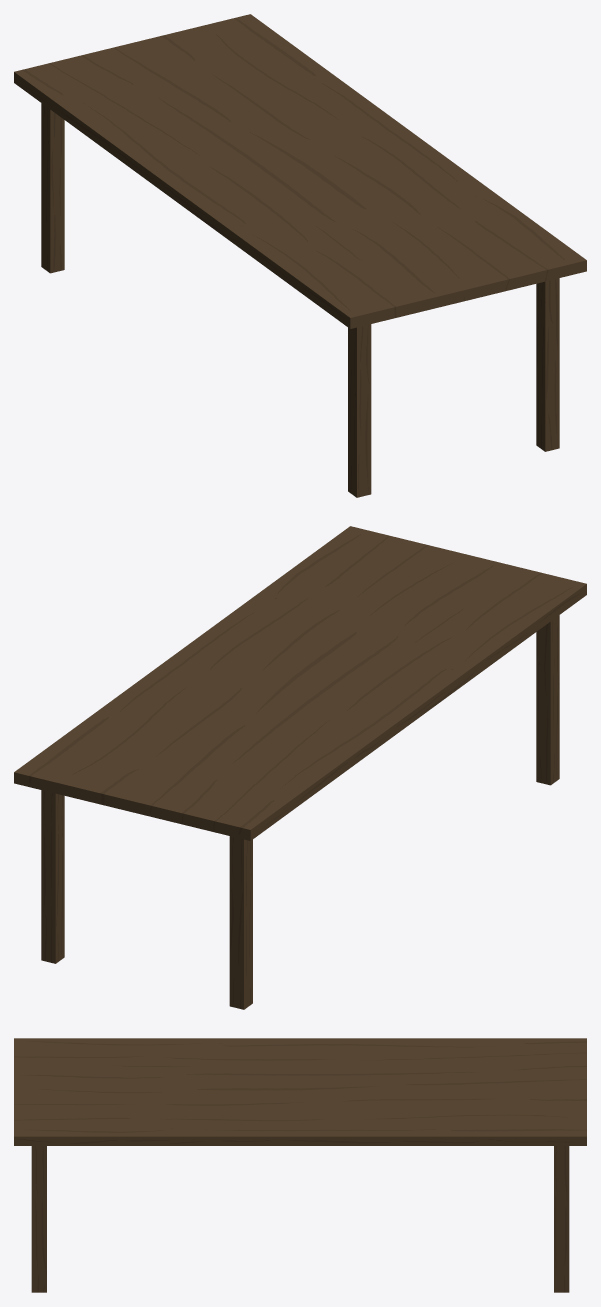
File: widetable.fbx
3 renders of one model, top to bottom at view 1: azimuth 30°, elevation 25°; view 2: azimuth 150°, elevation 25°; view 3: azimuth 270°, elevation 25°, orthographic. The views are drawn at different scales.
Parts seen in each view (by area): view 1: wideTable; view 2: wideTable; view 3: wideTable.
Part boxes in pixels (<box>): wideTable: <box>14,14,586,497</box>; wideTable: <box>14,526,586,1009</box>; wideTable: <box>14,1038,586,1292</box>.
Bounding box in the file's own units: 143 × 111 × 352.
Materials: 1 (1 with a texture image).
